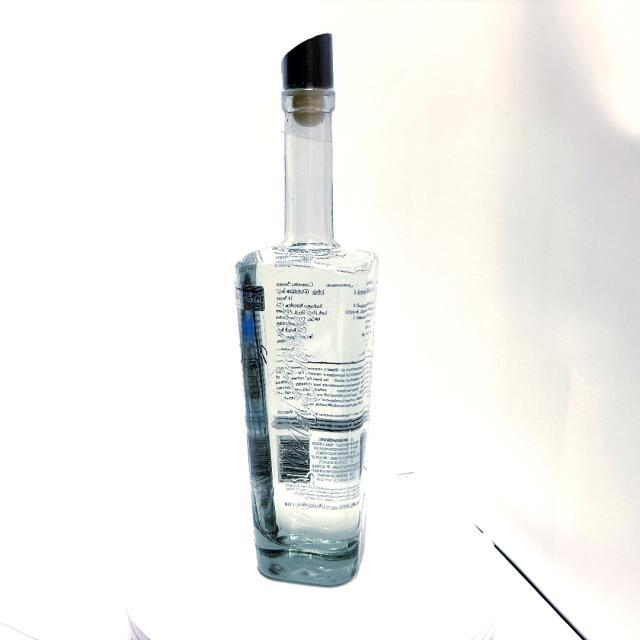MEZCALES-MALA-IDEA-TOBALA-750ML: (232, 31, 390, 586)
